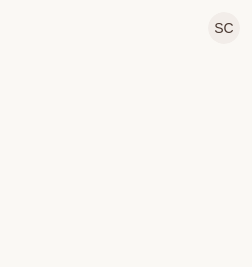
Test case: admin chrome › admin user nav opens its shortcut menu
Click the button at (224, 28), box [208,12,240,44]
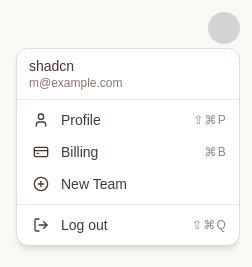
Check: the text "shadcn" is shown, box [29,58,74,74]
Check: the text "m@example.com" is shown, box [29,76,122,90]
